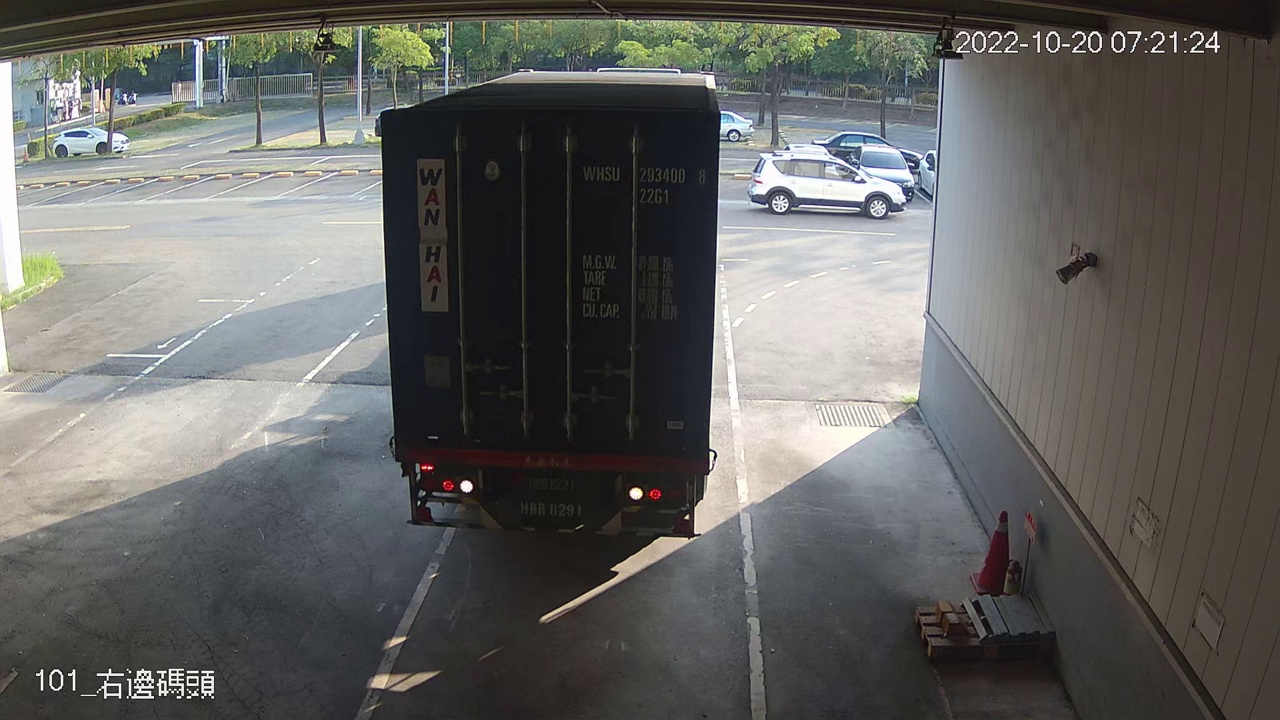container: (578, 157, 713, 210)
